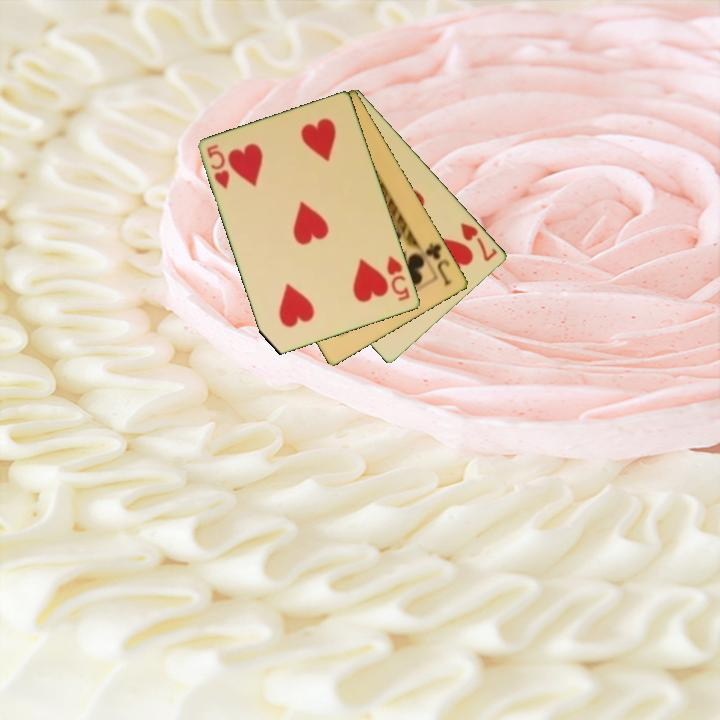5h: (383, 252, 413, 304), (203, 141, 233, 192)
7h: (457, 219, 500, 265)
Jc: (422, 239, 455, 288)
